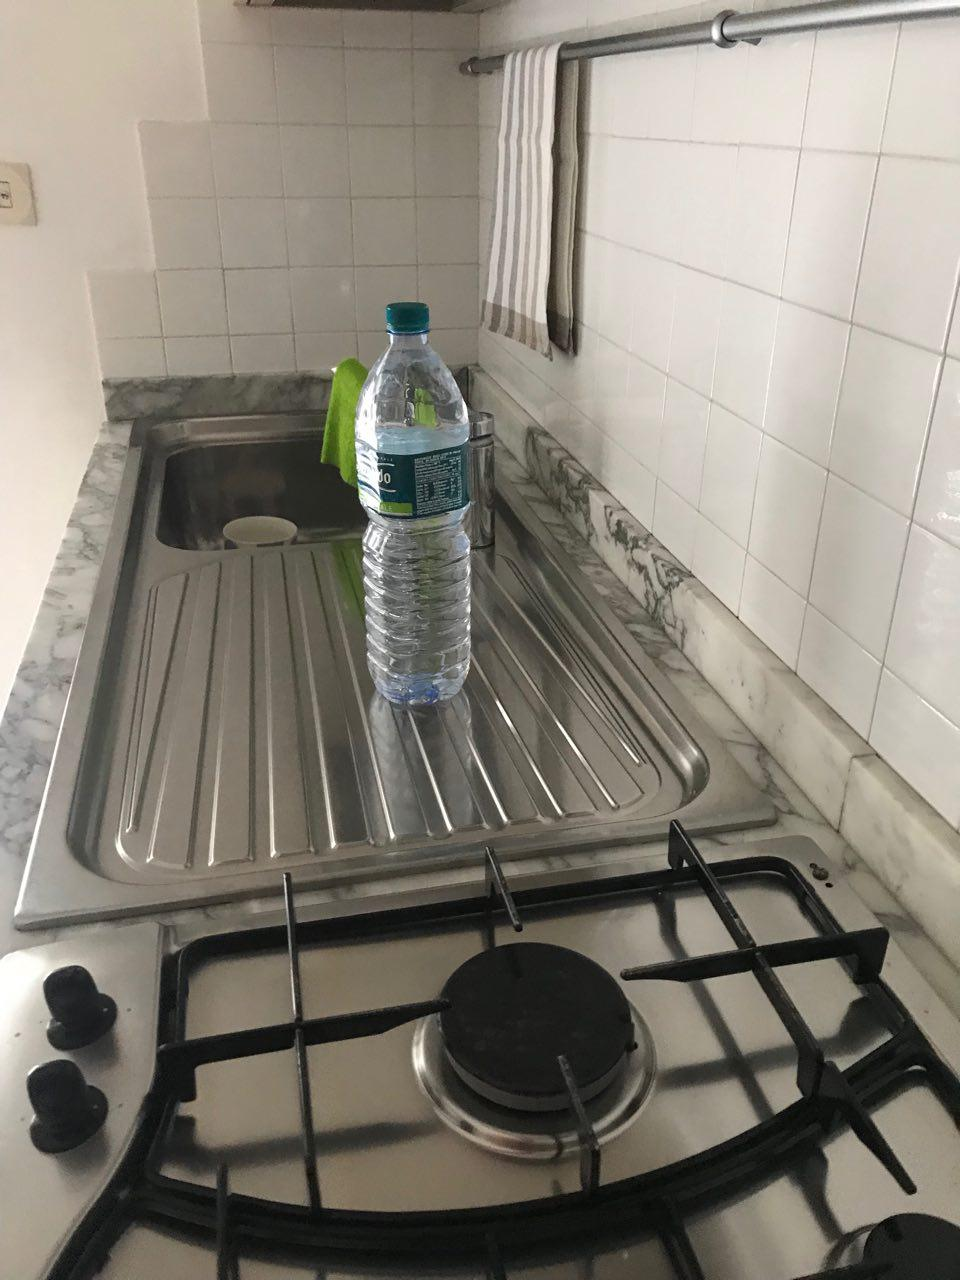san_bernardo: (353, 302, 472, 703)
